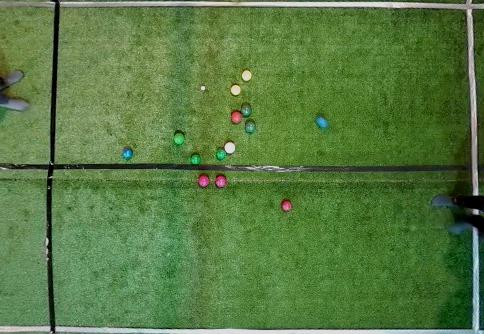blue: (316, 116, 329, 129), (123, 147, 133, 159)
green: (173, 133, 185, 145), (241, 104, 252, 117), (245, 121, 256, 133), (190, 154, 201, 165), (216, 148, 226, 160)
red: (215, 174, 226, 187), (224, 141, 235, 154), (198, 175, 209, 187), (231, 111, 242, 123), (282, 200, 292, 211)
vline: (1, 0, 60, 333), (463, 0, 483, 198), (470, 227, 483, 334)
white: (201, 86, 205, 90)
yellow: (241, 70, 252, 82), (231, 84, 241, 95)
